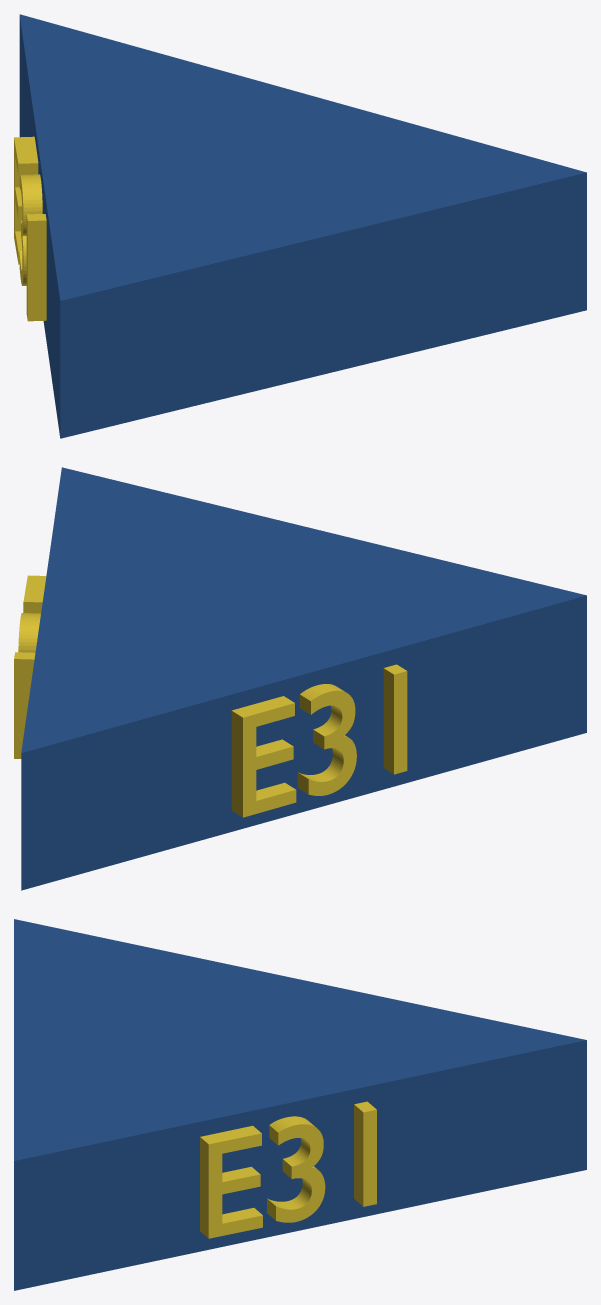
The picture shows the model from 3 angles, top to bottom: view 1: azimuth 30°, elevation 25°; view 2: azimuth 150°, elevation 25°; view 3: azimuth 270°, elevation 25°; orthographic projection. The views are drawn at different scales.
Parts seen in each view (by area): view 1: Cube, Text.001; view 2: Cube, Text.001, Text; view 3: Cube, Text.
Part boxes in pixels (left/top/right/bottom): Cube: left=19, top=14, right=586, bottom=438; Text.001: left=14, top=136, right=46, bottom=321; Cube: left=21, top=467, right=586, bottom=890; Text.001: left=231, top=664, right=407, bottom=817; Text: left=14, top=575, right=46, bottom=758; Cube: left=14, top=919, right=586, bottom=1290; Text: left=200, top=1101, right=376, bottom=1238.
Size of the model in its own units: 63.36 by 15.84 by 63.36.
